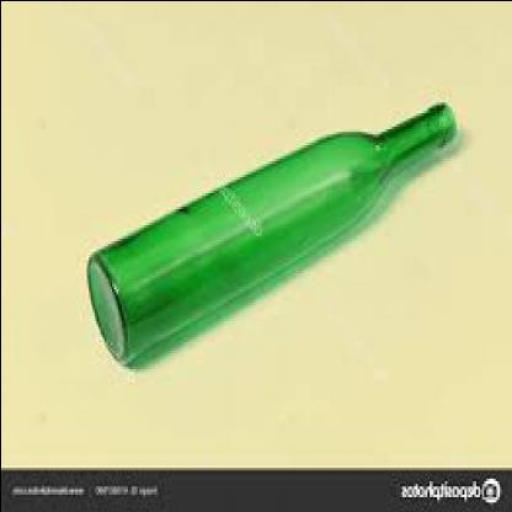glass: (87, 95, 459, 360)
